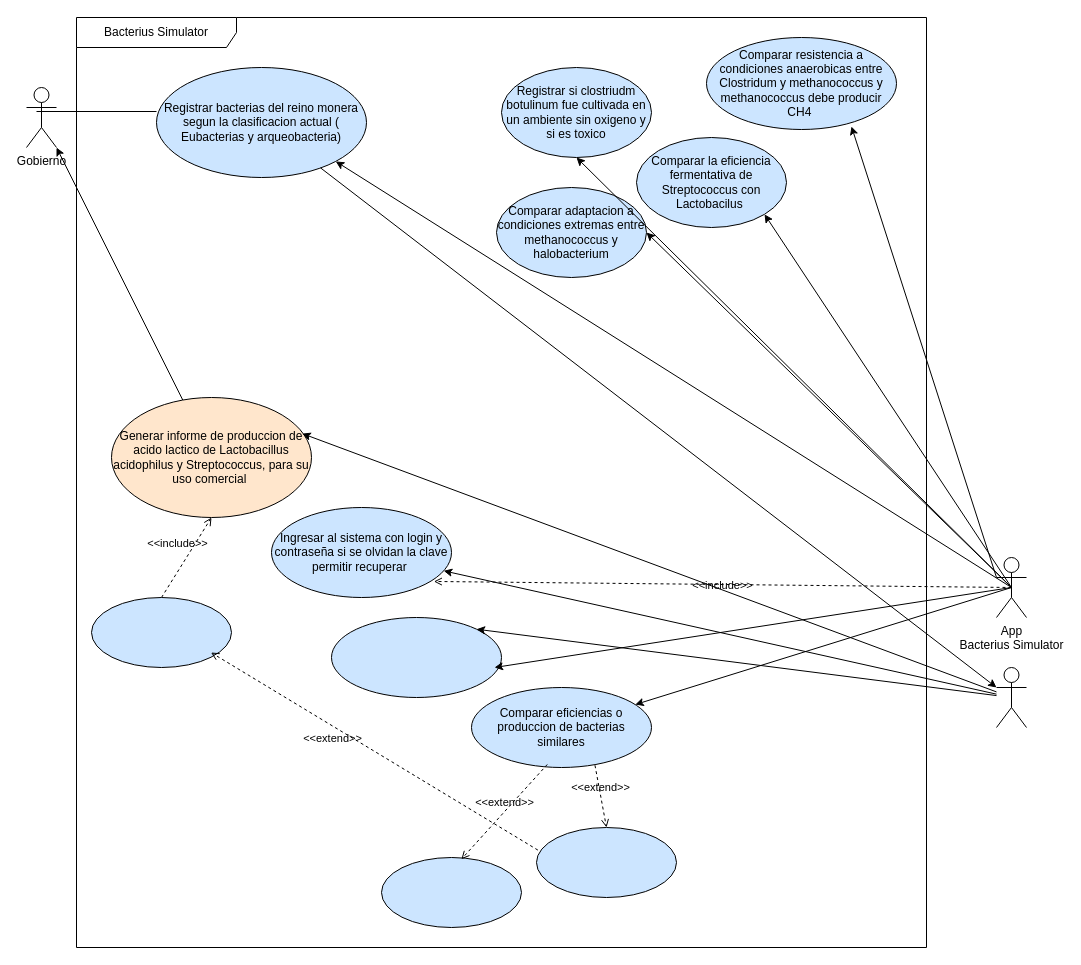
Some shapes in this 1081 by 965 pixel diagram are drawn without their labels. The shapes that lost their labels are listed below. From the top down, each one's centre as x and y in pixels, then its label:
the point at 161,632: Bacterias Generan acido lactico
the point at 416,657: Experimentar mediante la simulacion con las bacterias
the point at 1011,697: Microbiologo
the point at 606,862: Observar los resultados de los experimentos
the point at 451,892: modificar las condiciones experimentales
